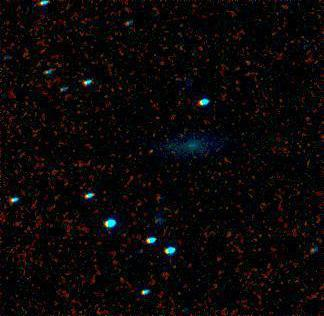star: (134, 138, 164, 168)
